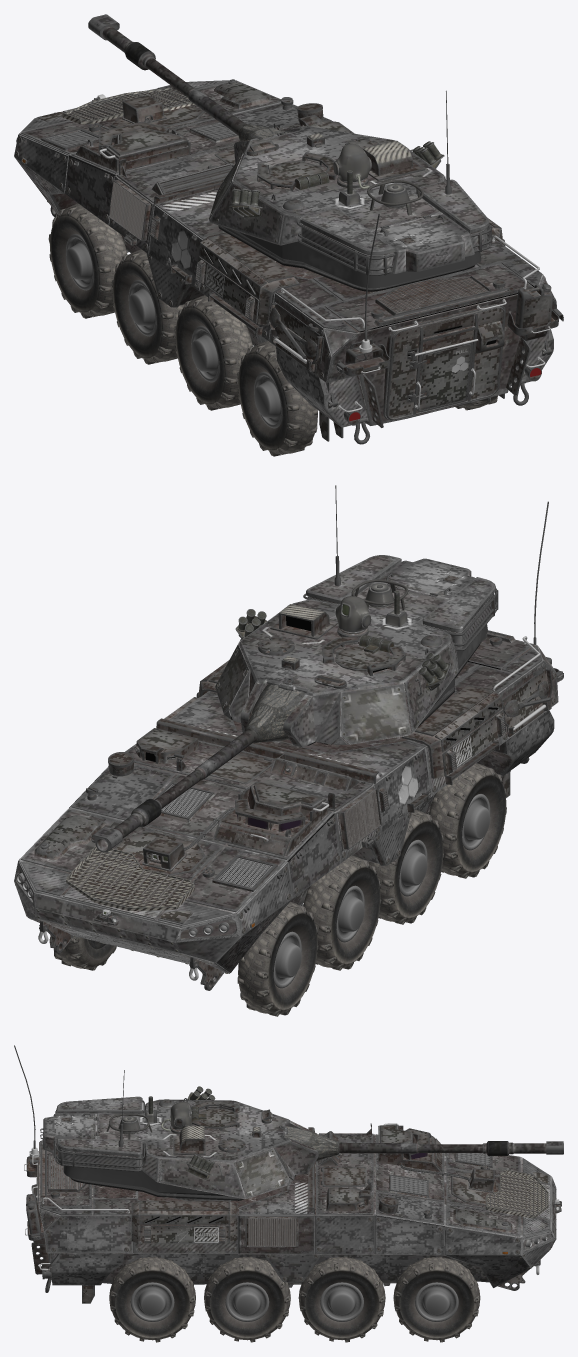
3 views of the same model, one above another, from view 1: azimuth 30°, elevation 25°; view 2: azimuth 150°, elevation 25°; view 3: azimuth 270°, elevation 25° (orthographic). The views are drawn at different scales.
Parts seen in each view (by area): view 1: Body_Parts.083, Turret, Body.007, Wheels, Body_Parts.085, Body_Parts.084, Bolts, Body_Parts.086; view 2: Body_Parts.083, Body.007, Turret, Wheels, Body_Parts.085, Canvas, Bolts, Body_Parts.086; view 3: Body.007, Body_Parts.083, Wheels, Turret, Body_Parts.085, Body_Parts.086, Canvas, Bolts, Body_Parts.084.
Part boxes in pixels (x1,y1,x2,y2): Body_Parts.083: (21,79,563,444); Turret: (88,14,489,291); Body.007: (14,80,556,427); Wheels: (48,203,498,456); Body_Parts.085: (14,133,556,425); Body_Parts.084: (515,284,552,328); Bolts: (14,136,555,378); Body_Parts.086: (14,157,63,215); Body_Parts.083: (34,485,563,990); Body.007: (15,637,558,936); Turret: (91,555,495,852); Wheels: (49,763,506,1016); Body_Parts.085: (14,644,556,973); Canvas: (244,684,305,742); Bolts: (14,648,556,973); Body_Parts.086: (231,899,291,972); Body.007: (40,1133,550,1285); Body_Parts.083: (14,1045,561,1303); Wheels: (109,1256,480,1342); Turret: (43,1096,563,1200); Body_Parts.085: (39,1142,556,1287); Body_Parts.086: (445,1255,520,1287); Canvas: (285,1126,339,1161); Bolts: (45,1150,556,1281); Body_Parts.084: (26,1193,40,1234).
Bounding box in the file's own units: 3.1 × 3.87 × 7.61.
Materials: 6 (6 with a texture image).
